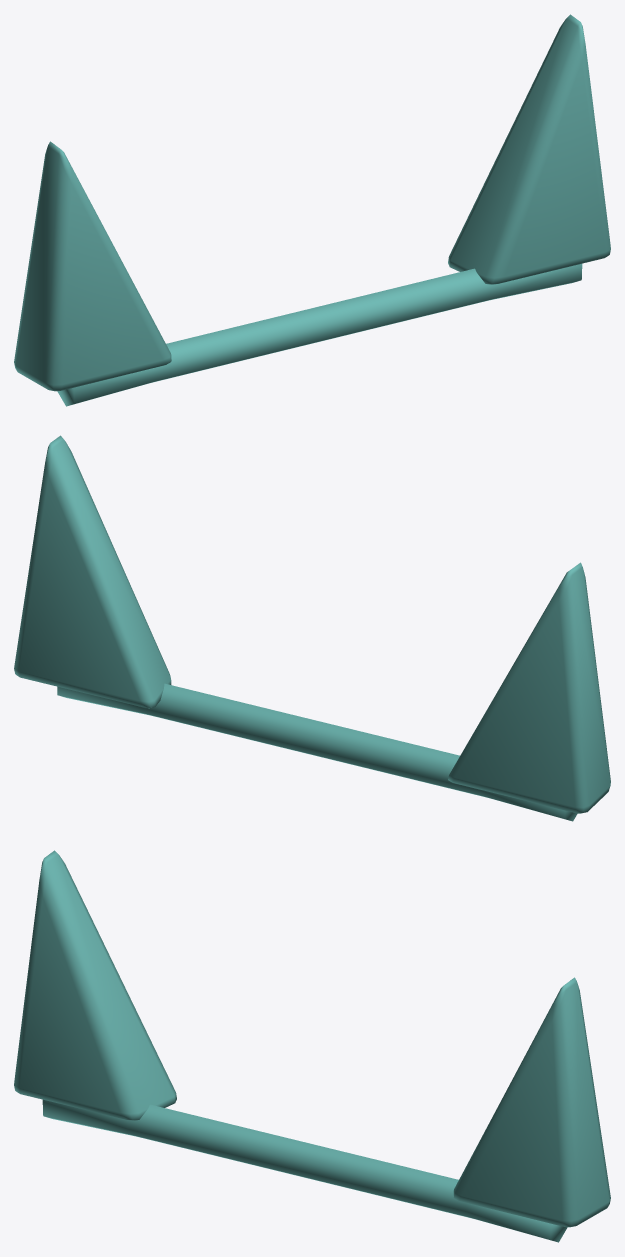
The model's file is head-cat-ears.glb.
The picture shows the model from 3 angles, top to bottom: view 1: azimuth 30°, elevation 25°; view 2: azimuth 150°, elevation 25°; view 3: azimuth 330°, elevation 25°; orthographic projection.
Parts seen in each view (by area): view 1: accessory_cat_ears; view 2: accessory_cat_ears; view 3: accessory_cat_ears.
Boxes of the visible parts, box(x1,y1,x2,y2) form: accessory_cat_ears: box(14, 14, 610, 406); accessory_cat_ears: box(14, 435, 610, 821); accessory_cat_ears: box(14, 850, 610, 1242).
Size of the model in its own units: 0.4068 by 0.1761 by 0.0451.
